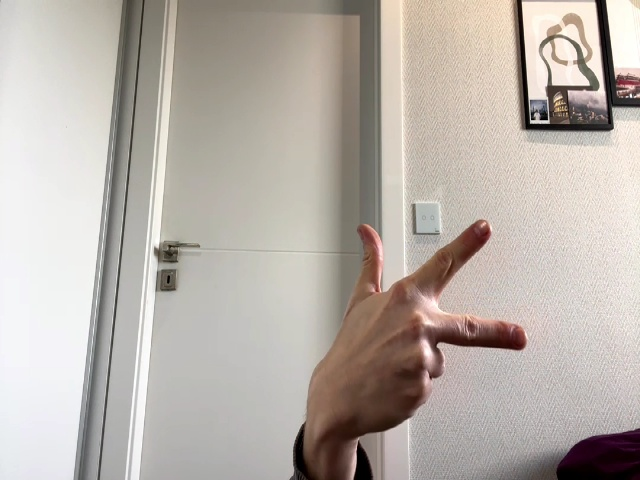K: (326, 221, 528, 434)
